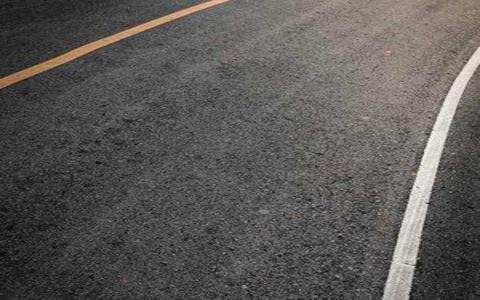Proper road: (62, 14, 429, 288)
